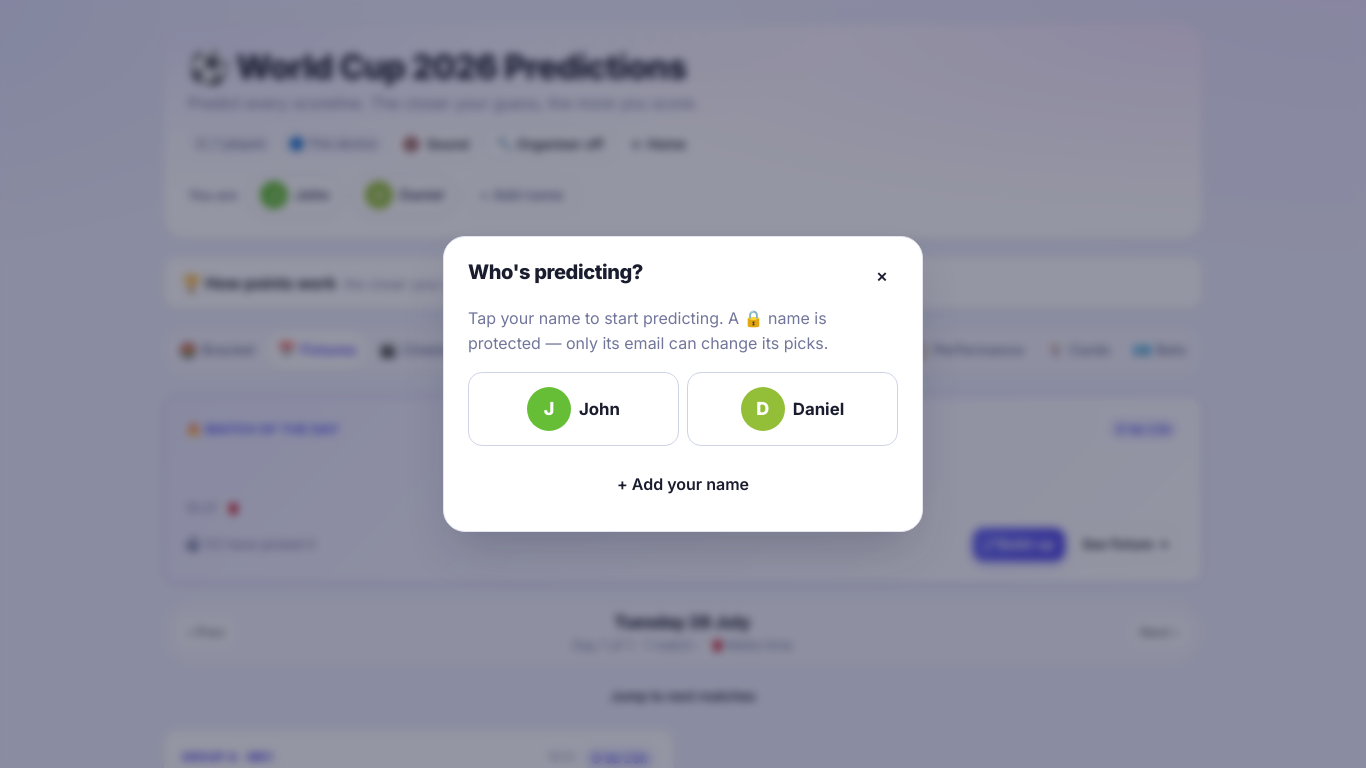
Test: WorldCupPage › hides others' picks until kickoff, then reveals them
This screenshot has width=1366, height=768.
Expected: the heading "⚽ World Cup 2026 Predictions" is shown, [188,47,699,87]
Click the button "J John" at coordinates (574, 409), box [468,372,679,446]
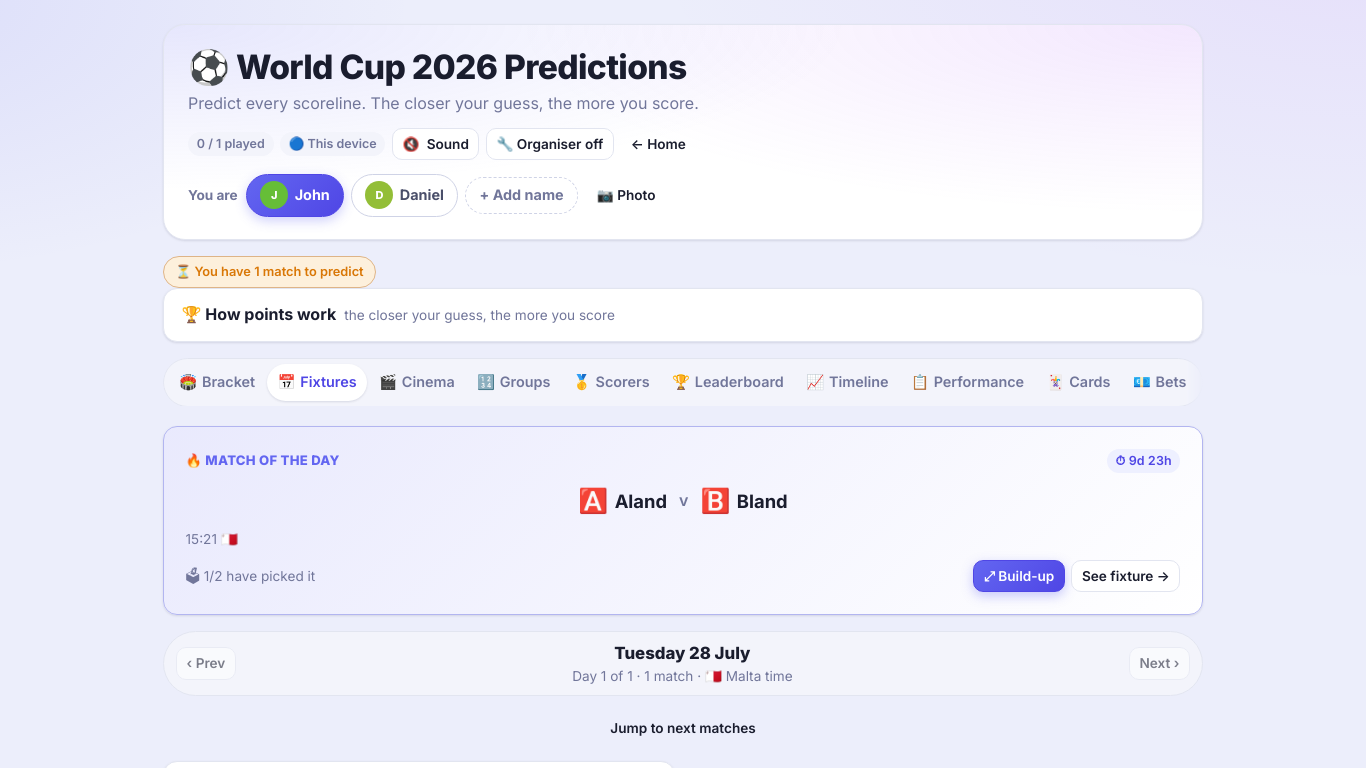
Expected: the element with class "wc-picks" does not show "Daniel"
Click the button "🔧 Organiser off" at coordinates (550, 144), box [486,128,614,160]
(page scrolled)
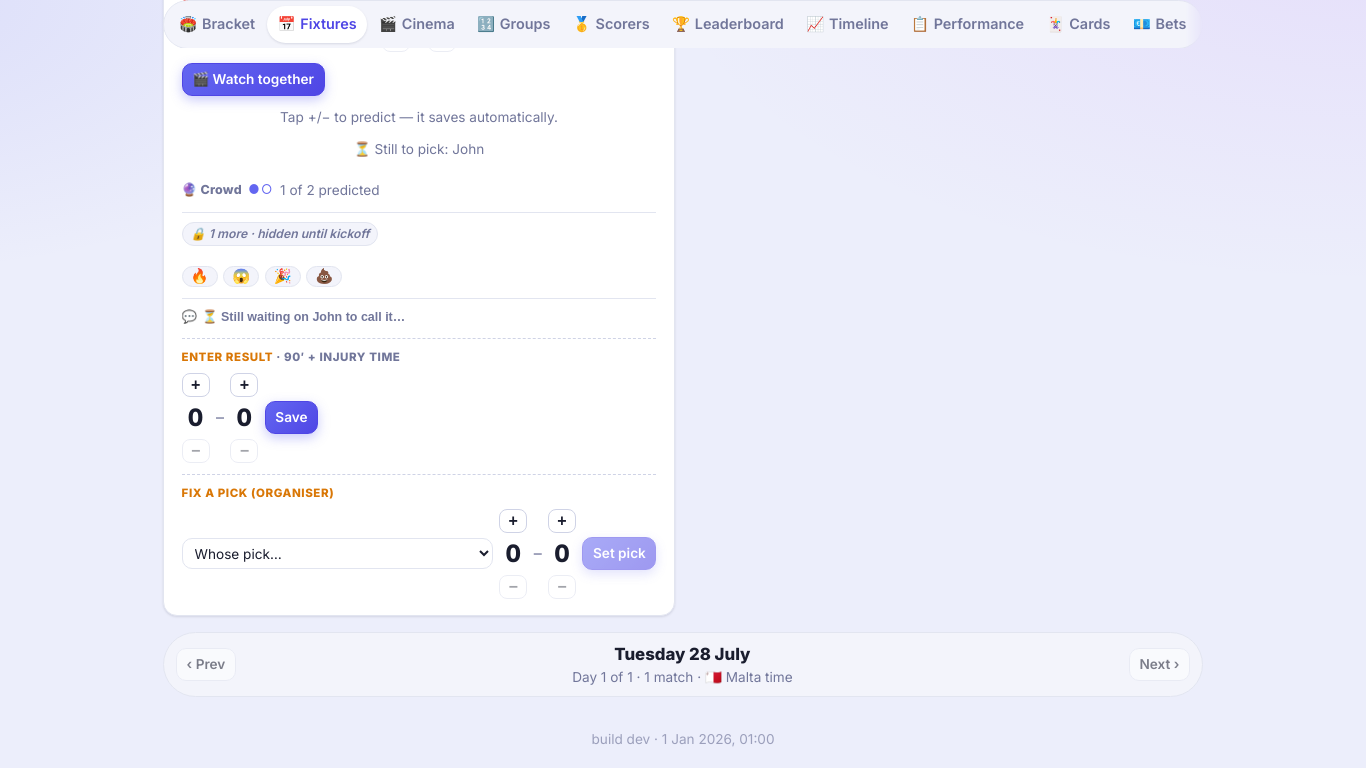
Click the button named "Home result goals: one more" at coordinates (196, 385), box [182,373,210,397]
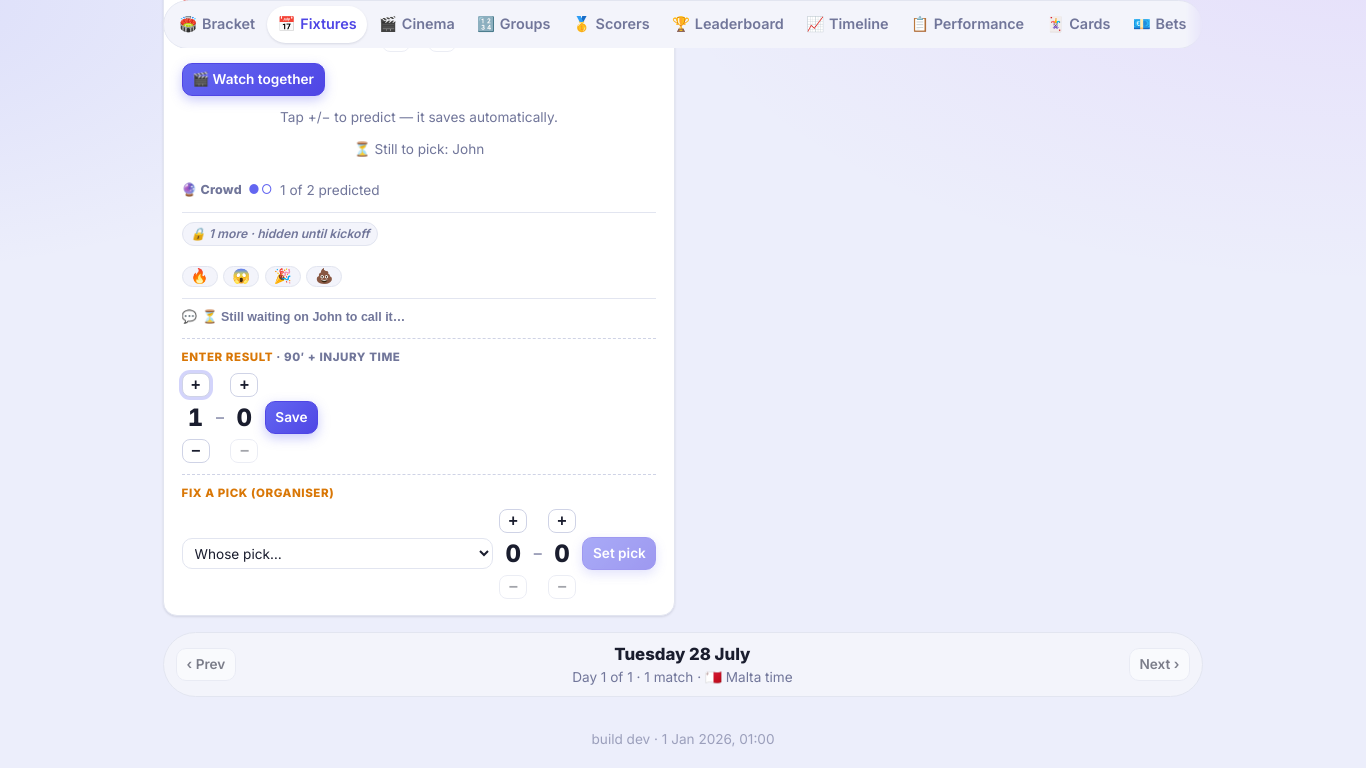
Click the button "Save" at coordinates (292, 418), box [265,402,318,434]
(page scrolled)
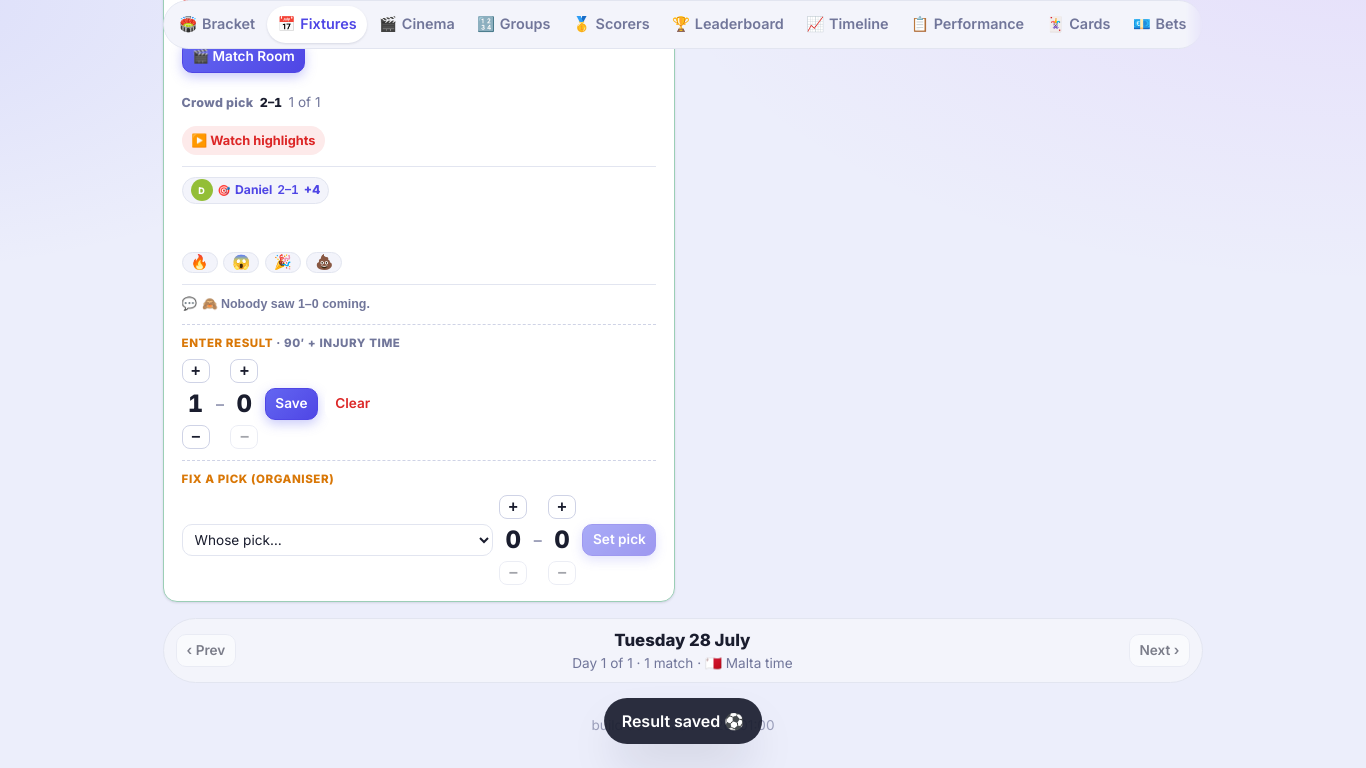
Expected: the element with class "wc-picks" shows "Daniel", [235,182,272,197]
